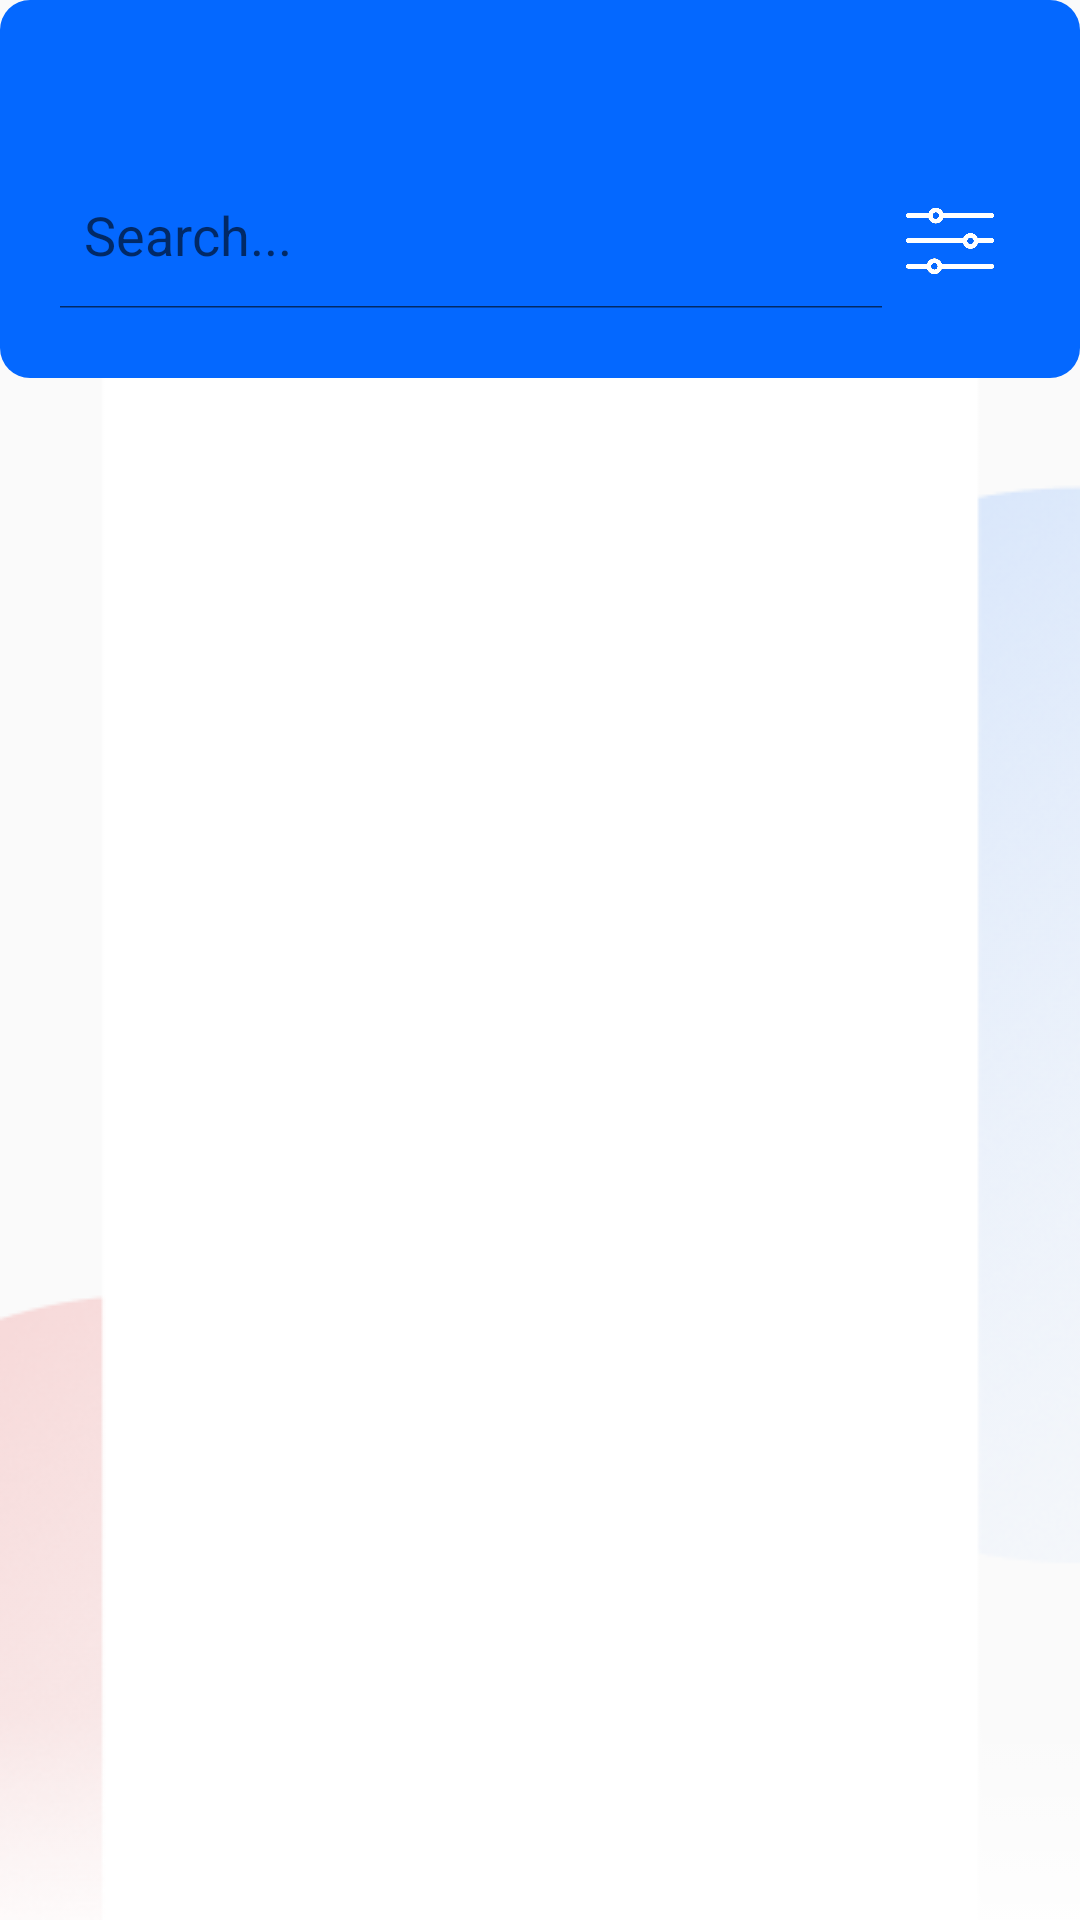

Named icons in this screenshot (1080w x 1920h) and their centers, (x=x, y=y):
filter: (x=950, y=241)
